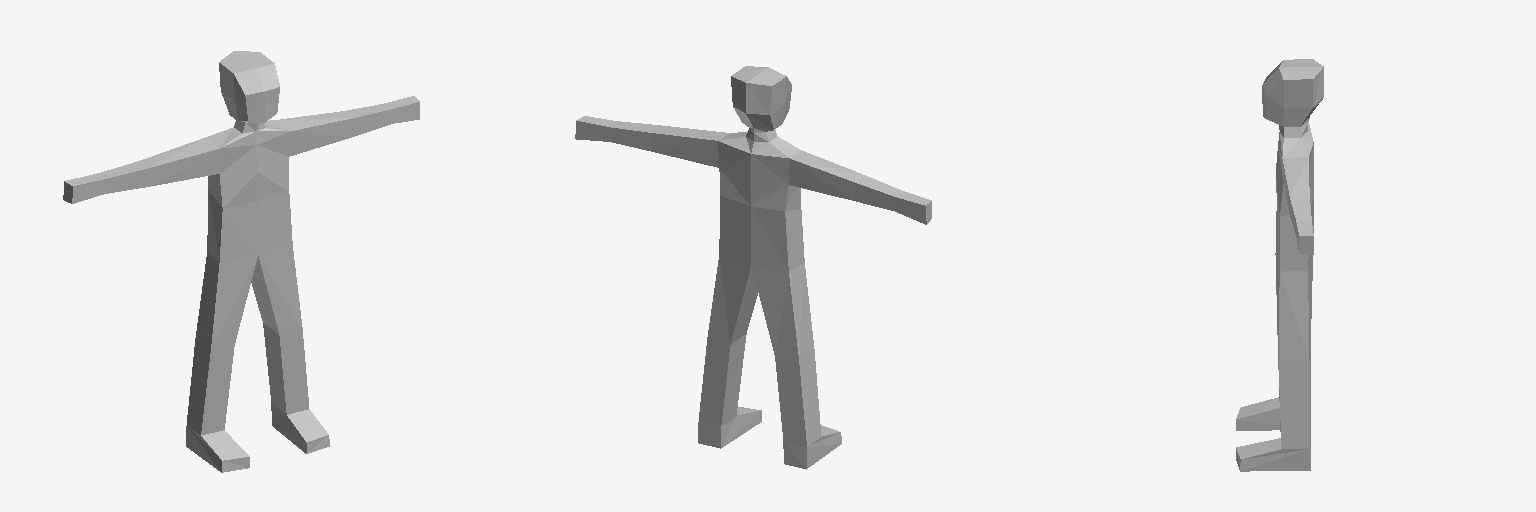
Rendered from person.obj.
3 views of the same model, side by side, from view 1: azimuth 30°, elevation 25°; view 2: azimuth 150°, elevation 25°; view 3: azimuth 270°, elevation 25° (orthographic).
Parts seen in each view (by area): view 1: TorsoUpper, TorsoLower, LegL1.001, Head, LegL2.001, LegL1, LegL2, ArmL1.001, ArmL1, LegL3.001, LegL3, ArmL2.001 (+3 smaller); view 2: TorsoUpper, TorsoLower, LegL1.001, LegL2.001, Head, LegL1, LegL2, ArmL1.001, ArmL1, LegL3, LegL3.001, ArmL2.001 (+3 smaller); view 3: Head, LegL1, LegL2, LegL3, TorsoUpper, TorsoLower, LegL3.001, ArmL1, ArmL3.
Part boxes in pixels (x1,y1,x2,y2): TorsoUpper: (205,120,289,208); TorsoLower: (207,189,292,262); LegL1.001: (195,252,257,350); Head: (219,51,279,122); LegL2.001: (187,339,234,434); LegL1: (251,245,302,333); LegL2: (263,323,308,414); ArmL1.001: (140,138,219,186); ArmL1: (279,111,353,156); LegL3.001: (186,426,249,472); LegL3: (271,404,329,453); ArmL2.001: (97,161,148,193); TorsoUpper: (717,128,801,211); TorsoLower: (719,196,804,271); LegL1.001: (752,263,814,360); LegL2.001: (775,350,820,446); Head: (731,66,791,132); LegL1: (707,255,757,344); LegL2: (699,333,746,425); ArmL1.001: (789,151,865,200); ArmL1: (651,125,730,167); LegL3: (698,407,761,448); LegL3.001: (783,425,841,469); ArmL2.001: (854,176,903,210); Head: (1262,59,1323,126); LegL1: (1275,254,1312,361); LegL2: (1278,352,1310,448); LegL3: (1236,438,1310,471); TorsoUpper: (1276,122,1313,216); TorsoLower: (1275,197,1313,271); LegL3.001: (1236,397,1279,430); ArmL1: (1282,157,1309,213); ArmL3: (1296,220,1313,254).
Bounding box in the file's own units: 12.34 × 12.7 × 2.69.